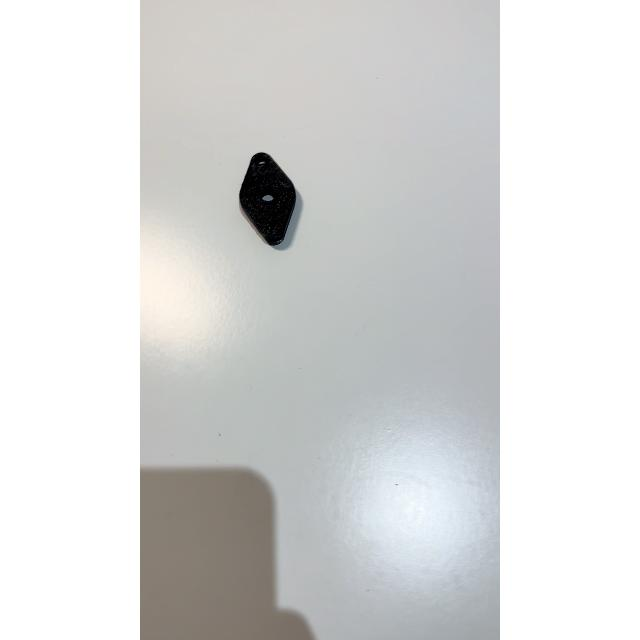Pieza_2: (216, 138, 306, 268)
